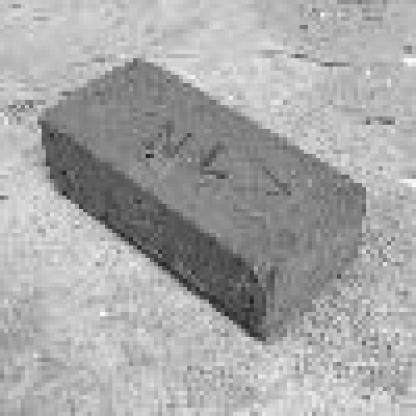brick: (36, 54, 368, 346)
